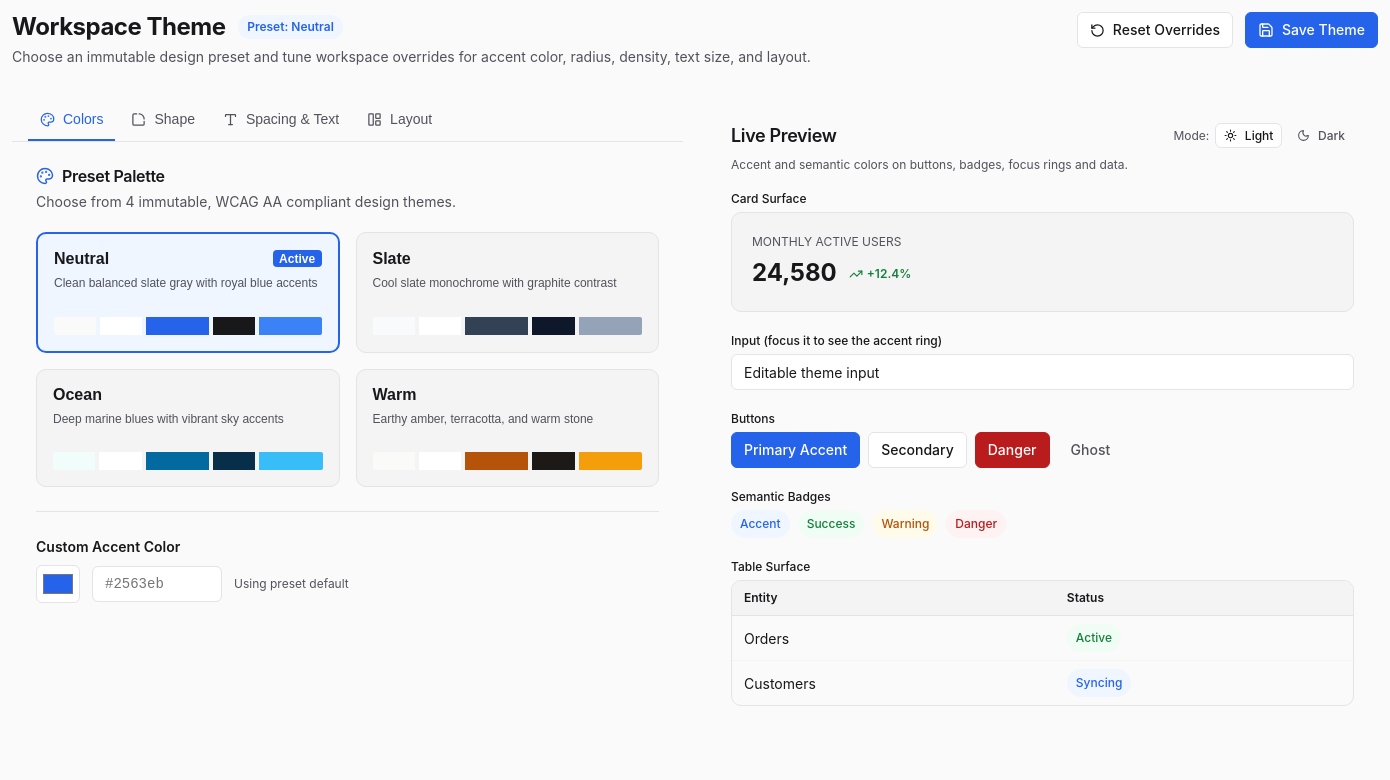
Scenario: Theme Foundation Unit & Integration Tests › Studio Theme Editor UI (/studio/theme) › warns when custom accent contrast is below 4.5:1 and allows reset
// Enter a low-contrast yellow accent
Type "#facc15" into the field with placeholder "#2563eb" at (157, 584), box [92,566,222,602]
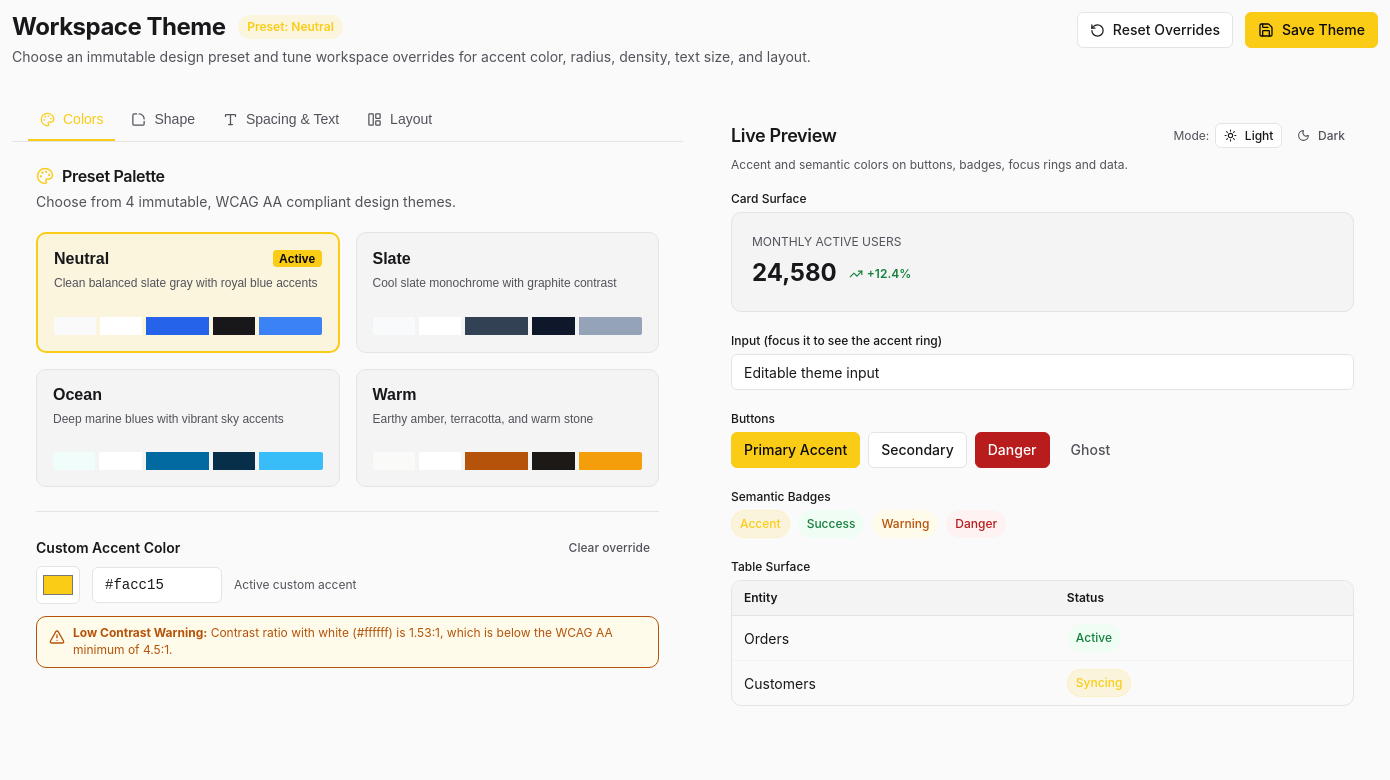
Expected: the text "Low Contrast Warning:" is shown, [73,625,207,640]
// Click Reset Overrides
Click the button "Reset Overrides" at (1155, 30), box [1077,12,1233,48]
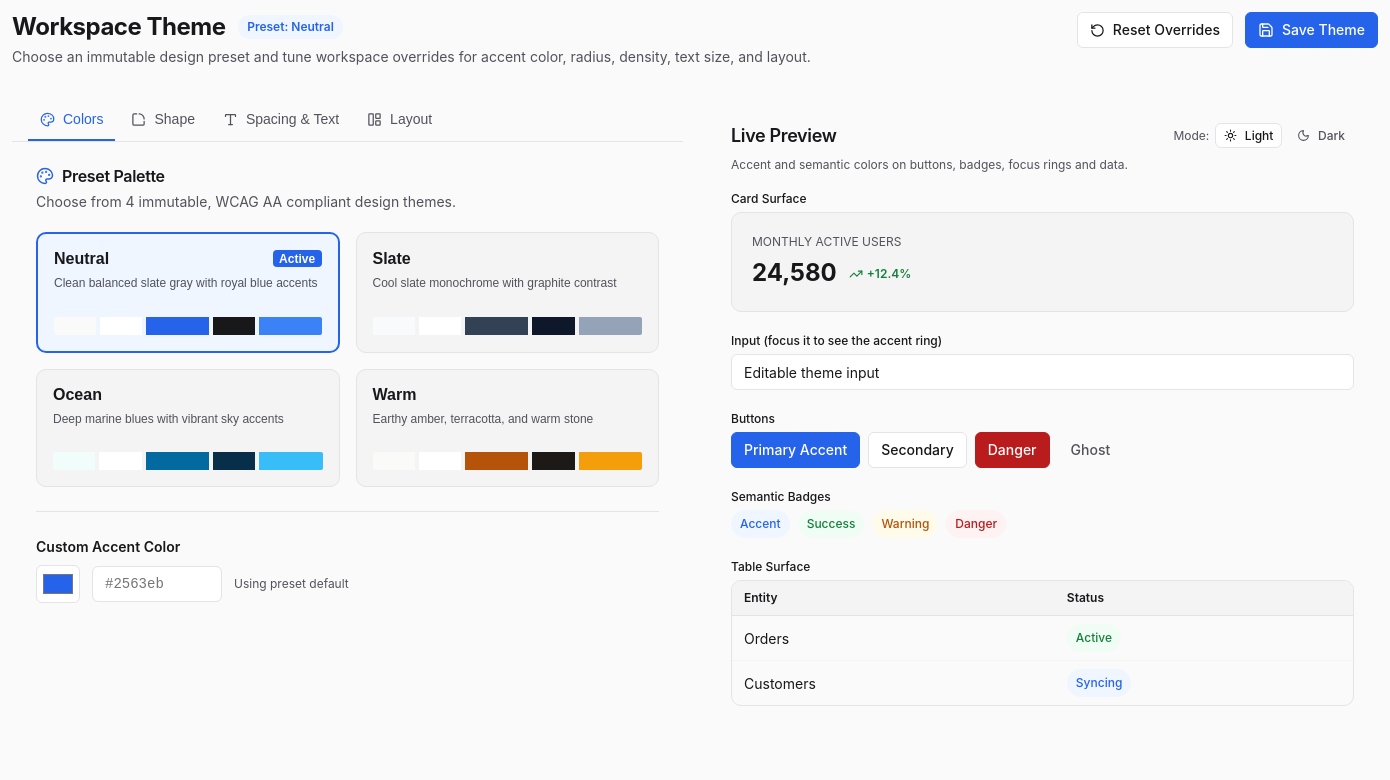
Expected: the text "Low Contrast Warning:" is gone
